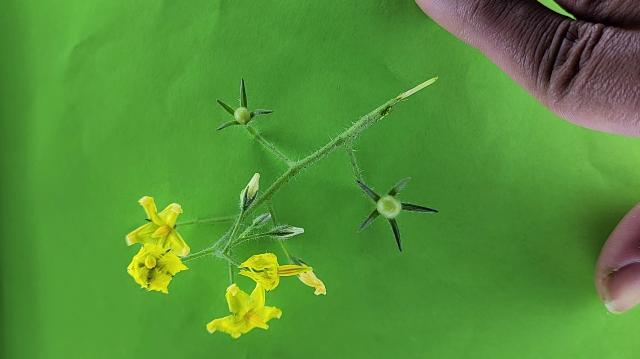Anthesis: (205, 279, 284, 341), (125, 240, 191, 296), (125, 198, 189, 255), (240, 249, 315, 294), (297, 268, 327, 297)
Flower Bud: (239, 172, 261, 215), (247, 212, 272, 231), (270, 225, 305, 238)
Fruit Bud: (376, 195, 401, 218), (234, 106, 251, 125)
